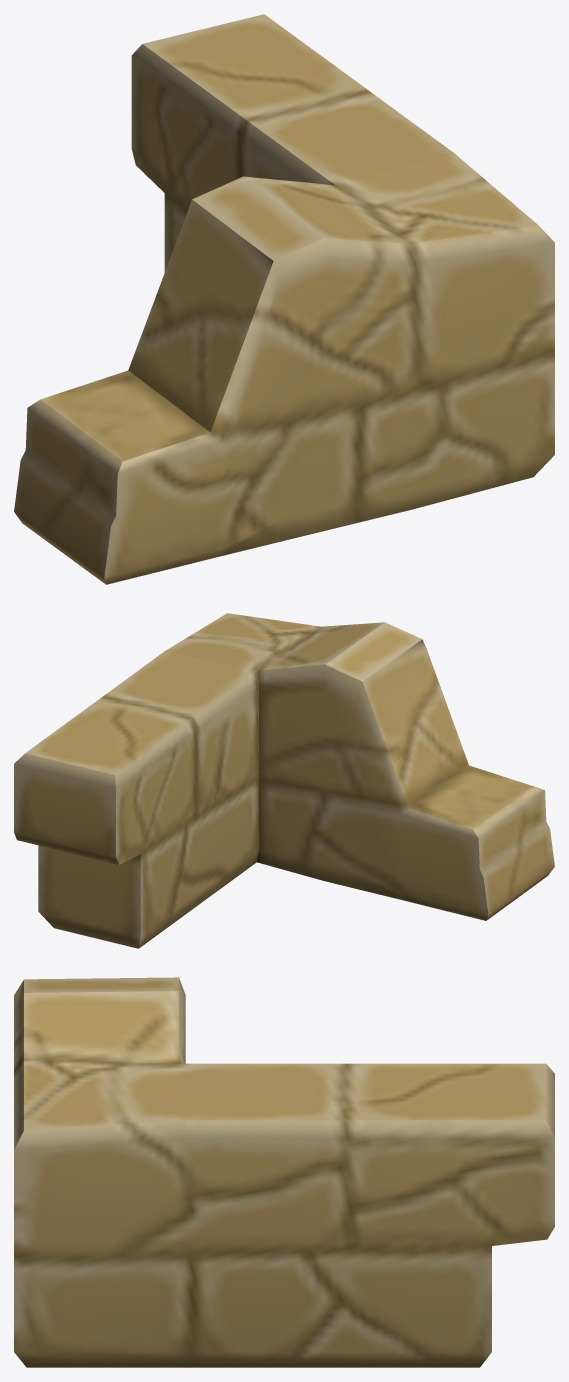
The model's file is Wall3.fbx.
The picture shows the model from 3 angles, top to bottom: view 1: azimuth 30°, elevation 25°; view 2: azimuth 150°, elevation 25°; view 3: azimuth 270°, elevation 25°; orthographic projection. The views are drawn at different scales.
Parts seen in each view (by area): view 1: pCube24; view 2: pCube24; view 3: pCube24.
Boxes of the visible parts, x1,y1,x2,y2 form: pCube24: (14,14,554,584); pCube24: (14,613,554,948); pCube24: (14,977,554,1367).
Bounding box in the file's own units: 1.52 × 0.949 × 1.66.
